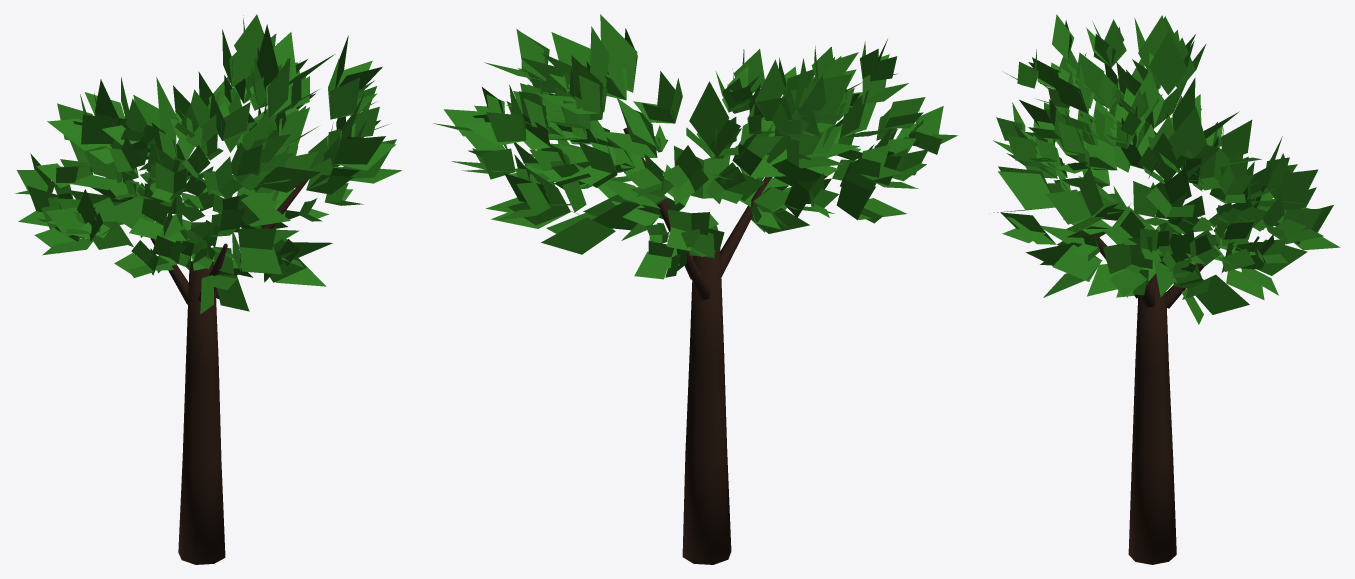
File: Tree_05_C_LOD1.obj
3 renders of one model, left to right at view 1: azimuth 30°, elevation 25°; view 2: azimuth 150°, elevation 25°; view 3: azimuth 270°, elevation 25°, orthographic. The views are drawn at different scales.
Parts seen in each view (by area): view 1: Leaves, Trunk; view 2: Leaves, Trunk; view 3: Leaves, Trunk.
Part boxes in pixels (bbox=[...]): Leaves: bbox=[15, 14, 401, 314]; Trunk: bbox=[129, 180, 308, 564]; Leaves: bbox=[433, 14, 957, 279]; Trunk: bbox=[623, 127, 772, 564]; Leaves: bbox=[993, 14, 1340, 324]; Trunk: bbox=[1089, 235, 1219, 564].
Bounding box in the file's own units: 4.35 × 5.11 × 3.32.
